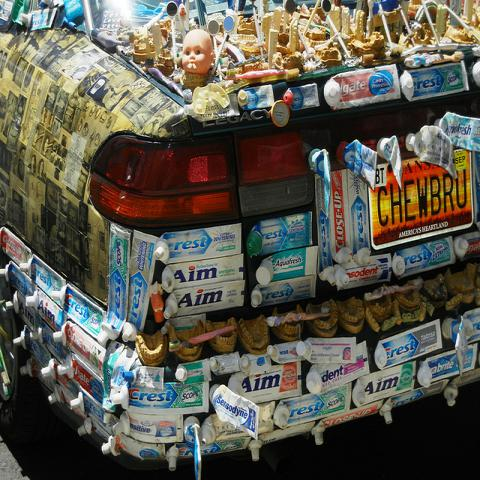car: (2, 6, 478, 474)
